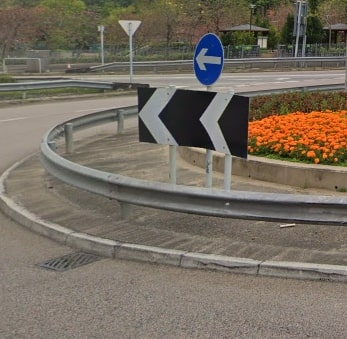Turn Left: (194, 32, 225, 85)
Turn Left(quick): (137, 87, 249, 161)
